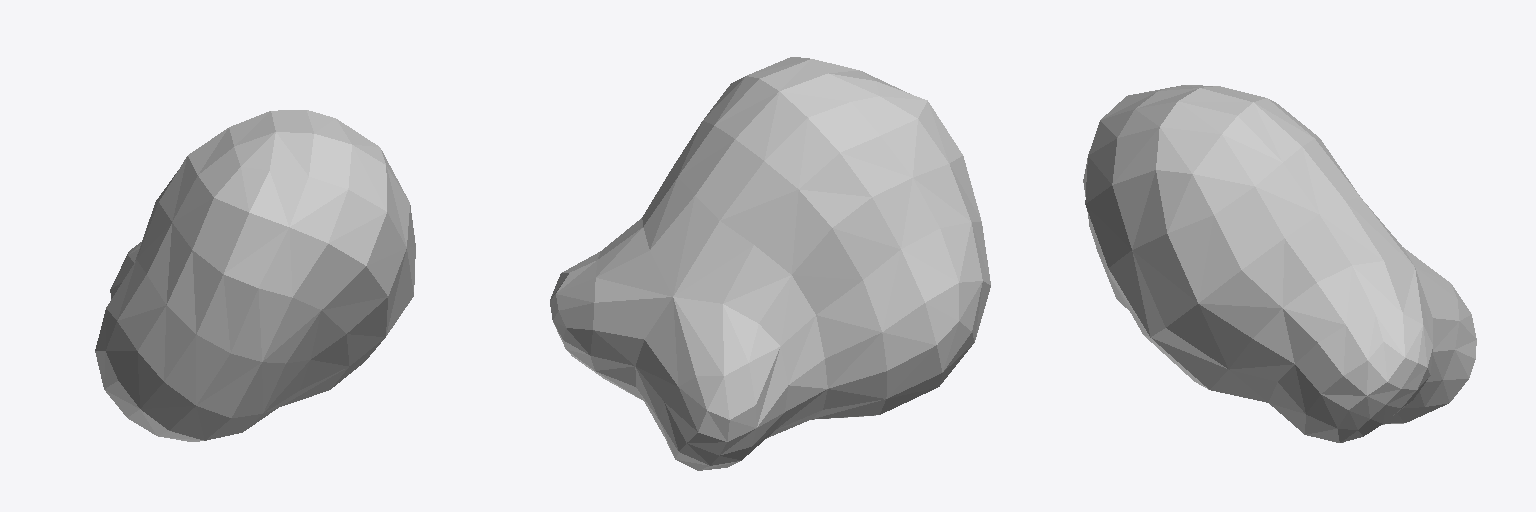
The model's file is Tree shader test.obj.
The picture shows the model from 3 angles: view 1: azimuth 30°, elevation 25°; view 2: azimuth 150°, elevation 25°; view 3: azimuth 270°, elevation 25°; orthographic projection.
Visible parts, largest first — view 1: Group27759; view 2: Group27759; view 3: Group27759.
Boxes of the visible parts, x1,y1,x2,y2 form: Group27759: [95, 110, 415, 441]; Group27759: [550, 57, 990, 470]; Group27759: [1083, 85, 1476, 442].
Bounding box in the file's own units: 5.48 × 4.85 × 5.47.